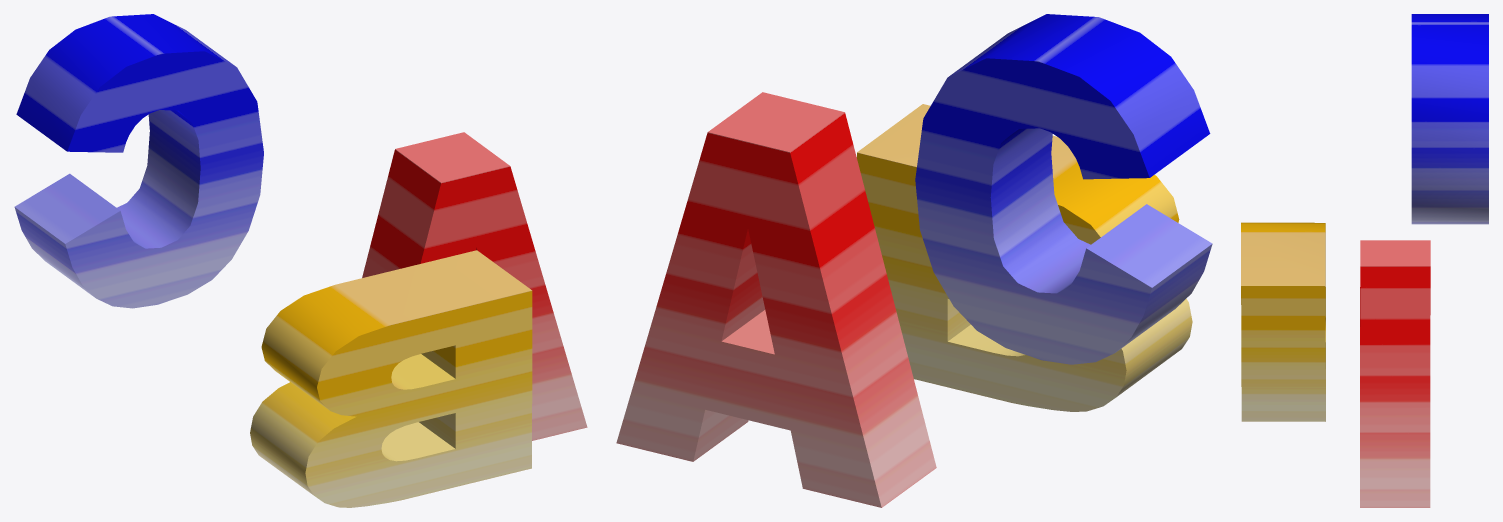
File: ICON.ICO.obj
The picture shows the model from 3 angles, left to right: view 1: azimuth 30°, elevation 25°; view 2: azimuth 150°, elevation 25°; view 3: azimuth 270°, elevation 25°; orthographic projection. The views are drawn at different scales.
Size of the model in its own units: 4 by 3.48 by 2.31.
Materials: 1 (1 with a texture image).
